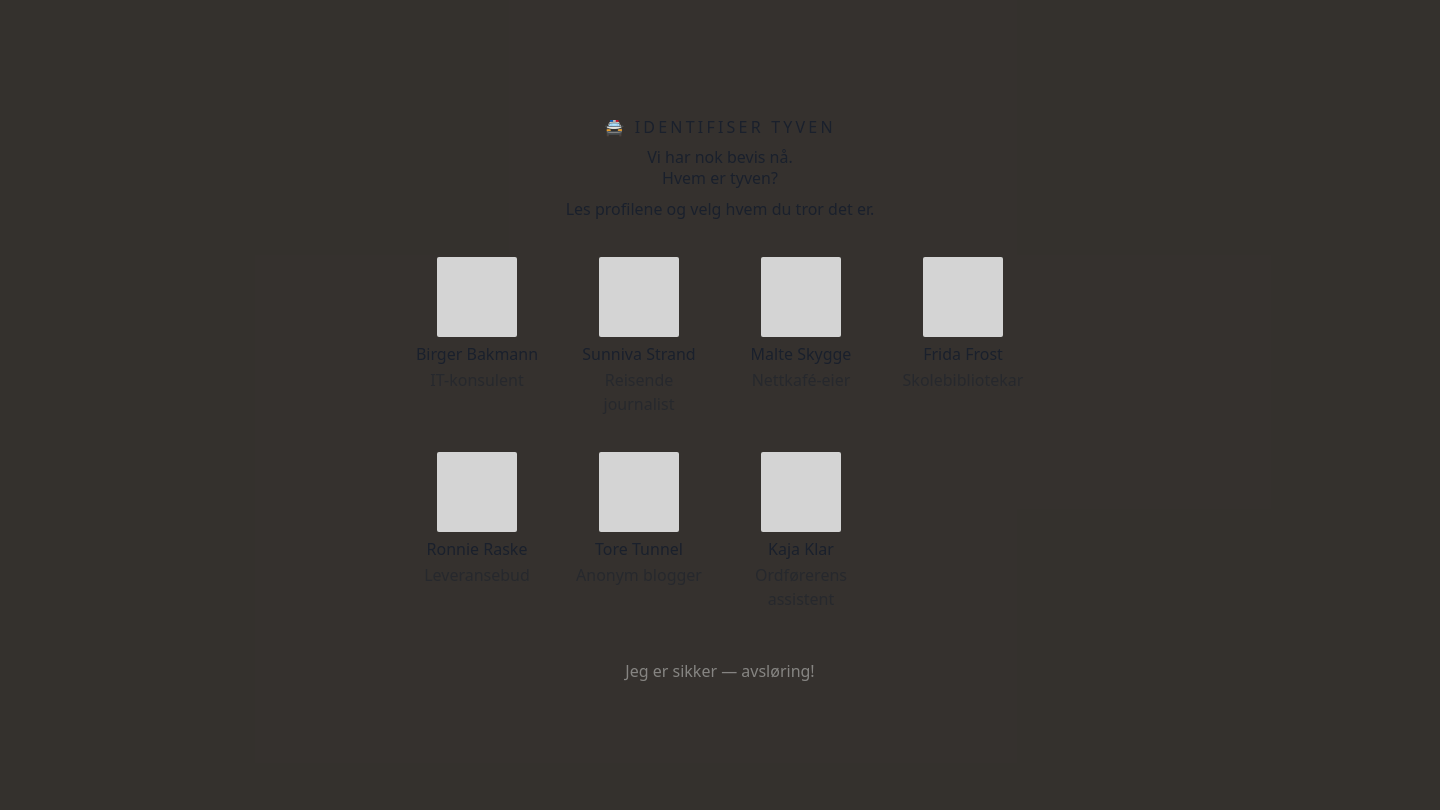
Test: SuspectLineup › always reveals Malte Skygge regardless of who student picked
The image size is (1440, 810).
Student picks suspect index 0 (Birger Bakmann)
Click the button with class "suspect-card" that starts with "Birger Bakmann" at (477, 336), box x1=402 y1=245 x2=552 y2=428
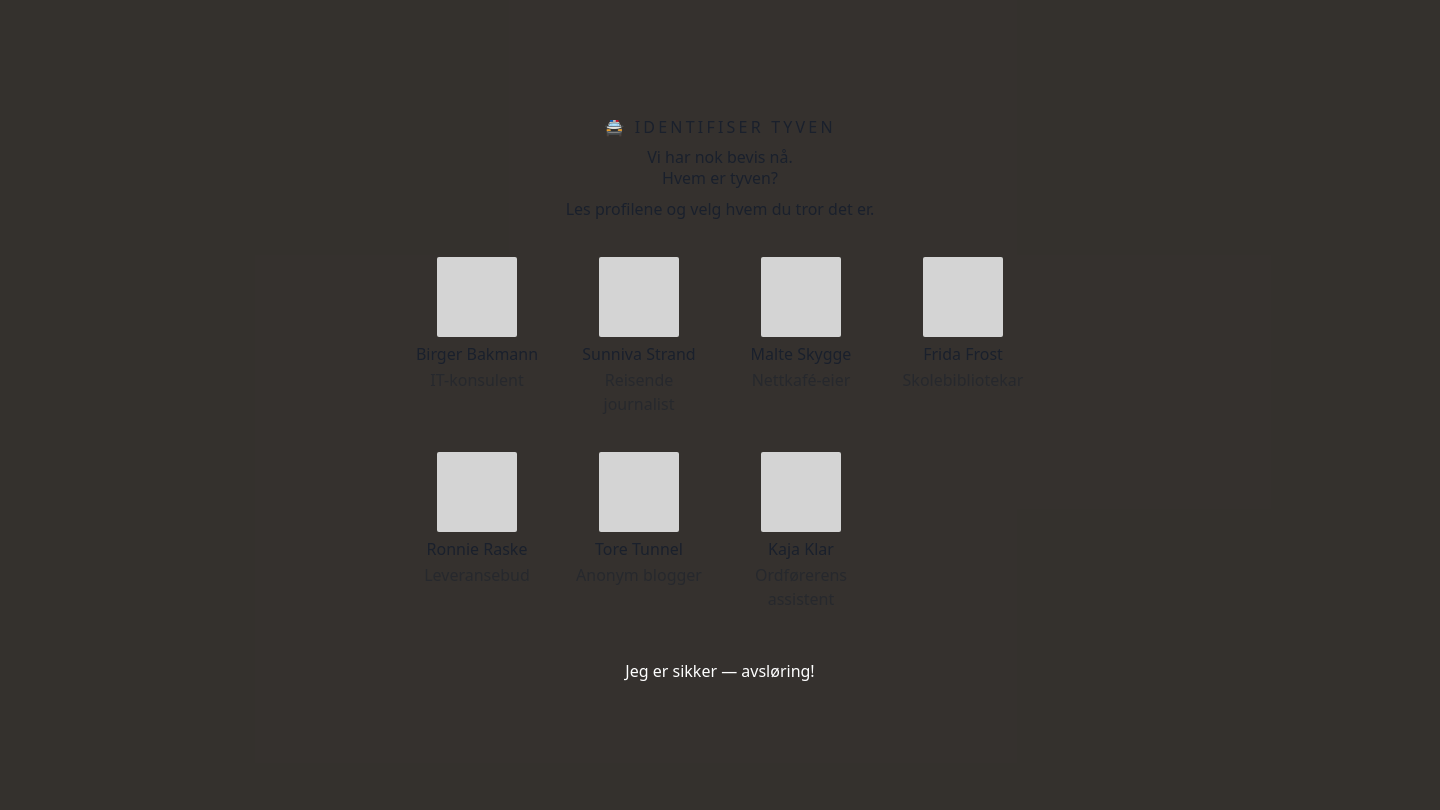
Click the button with class "lineup__confirm" at (720, 671), box x1=593 y1=647 x2=847 y2=695
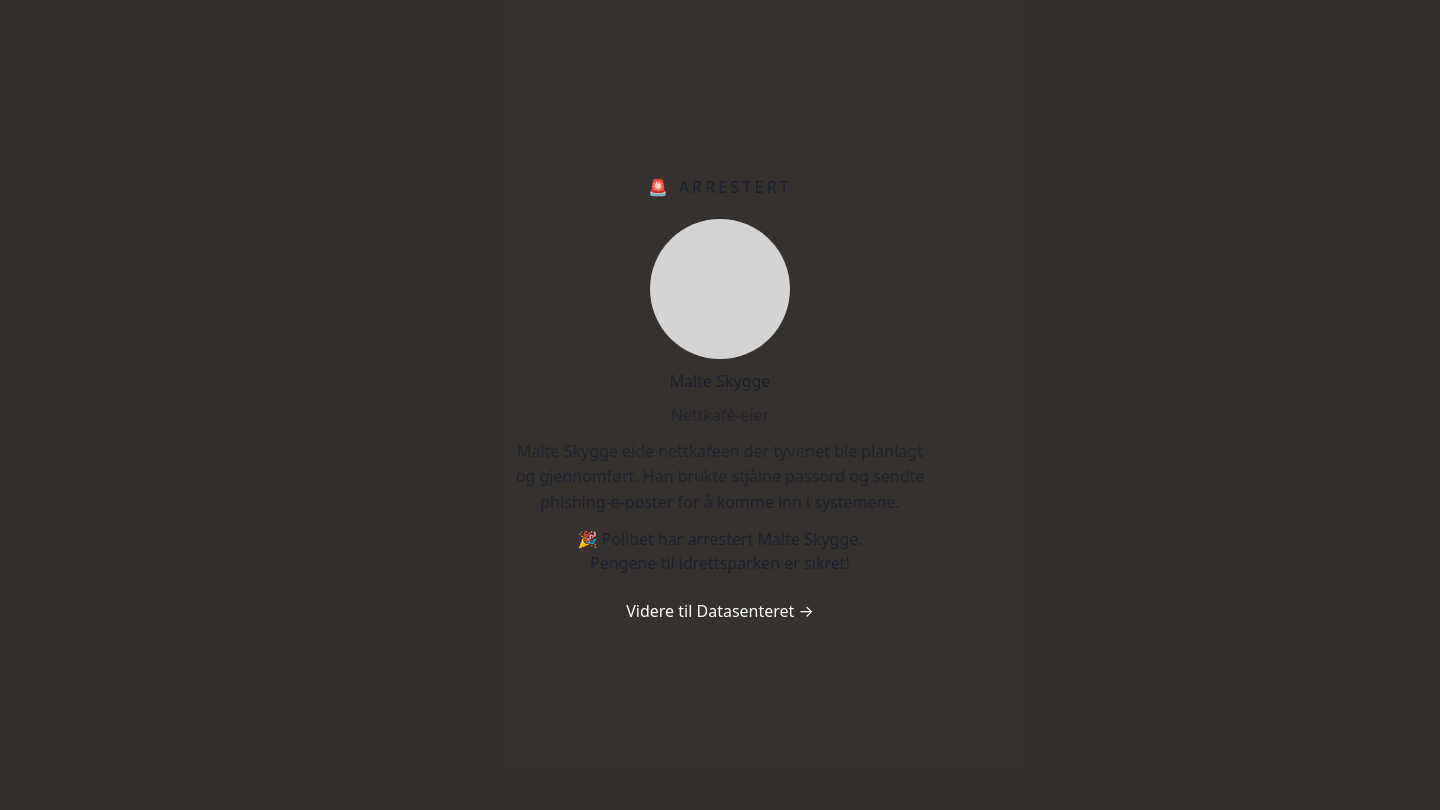
Check: the heading with class "lineup__reveal-name" reads "Malte Skygge", box x1=670 y1=370 x2=770 y2=392
